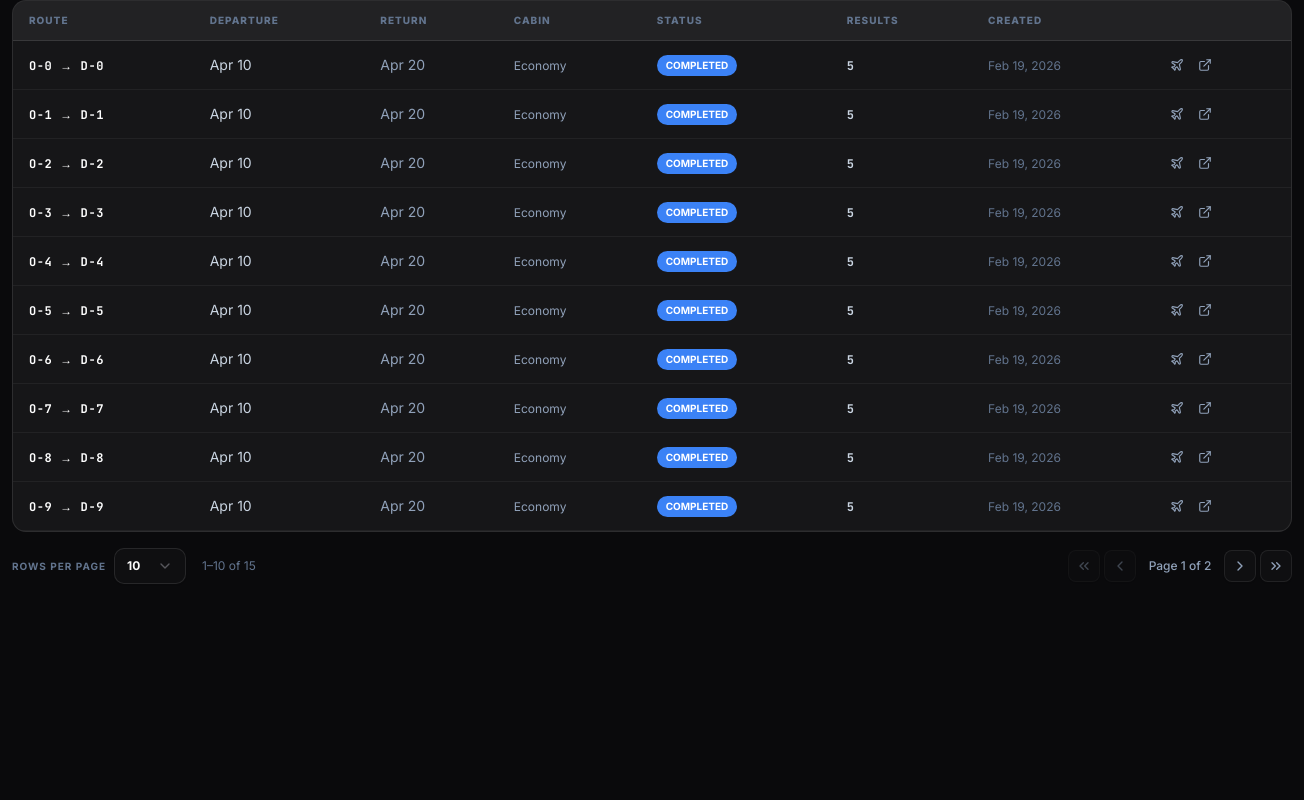
Test: ExecutionsTable › navigates pages when clicking pagination buttons
Expected: the text "Page 1 of 2" is shown, top-left (1149, 558), bottom-right (1211, 573)
Expected: the 1st button is disabled, top-left (1068, 550), bottom-right (1100, 582)
Click next → page 2
Step 1. Click the 3rd button → (1240, 566), box top-left (1224, 550), bottom-right (1256, 582)
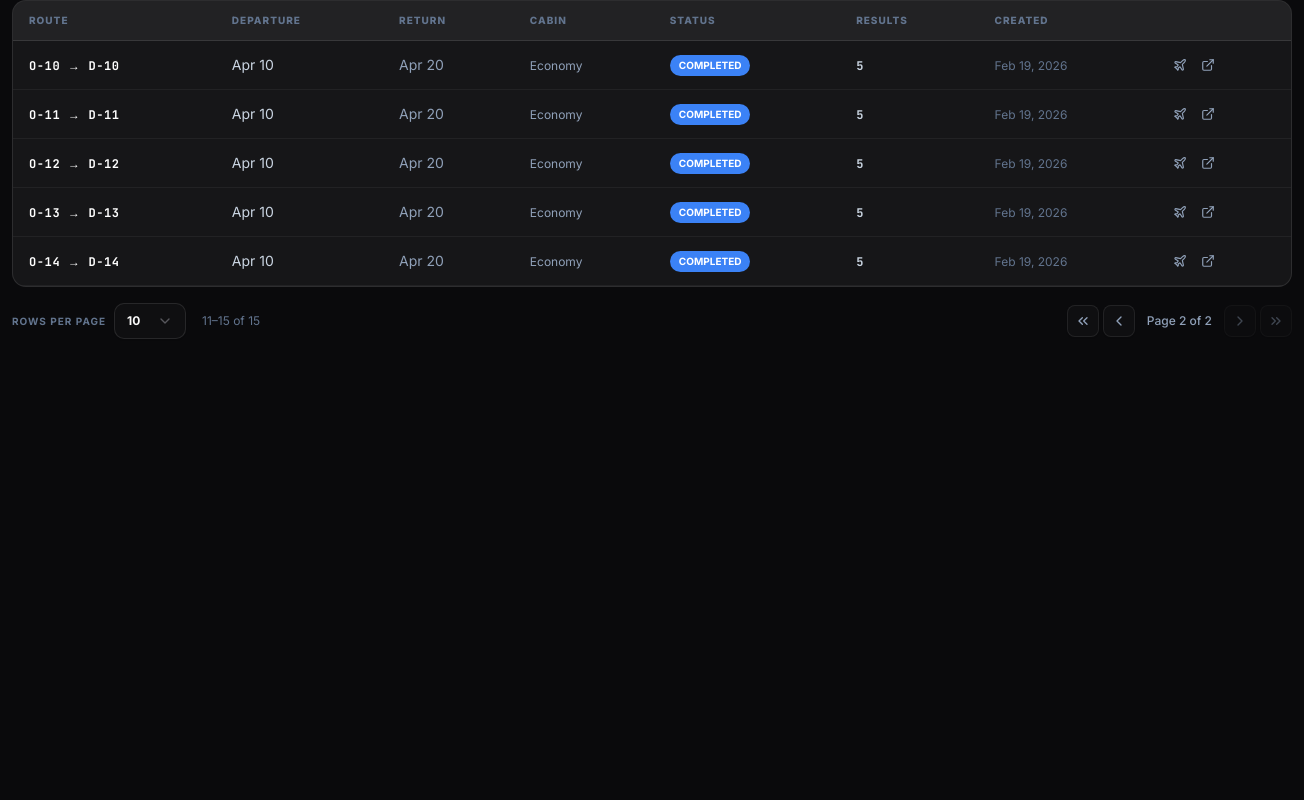
Expected: the 2nd button is enabled, top-left (1103, 305), bottom-right (1135, 337)
Now the text "Page 2 of 2" is shown, box top-left (1147, 313), bottom-right (1212, 328)
Now the 1st button is enabled
Click first → page 1
Step 2. Click the 1st button → (1083, 321), box top-left (1067, 305), bottom-right (1099, 337)
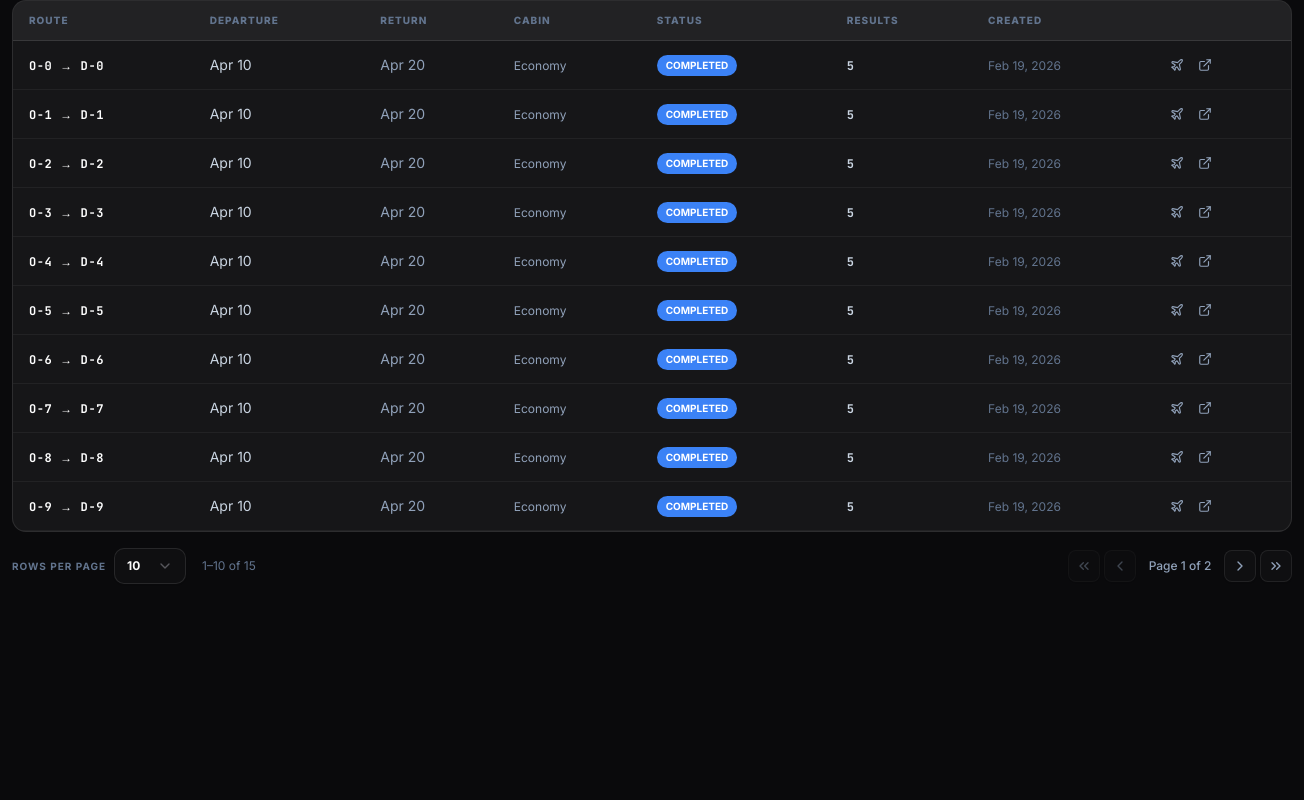
Now the text "Page 1 of 2" is shown, box top-left (1149, 558), bottom-right (1211, 573)
Click last → page 2
Step 3. Click the 4th button → (1276, 566), box top-left (1260, 550), bottom-right (1292, 582)
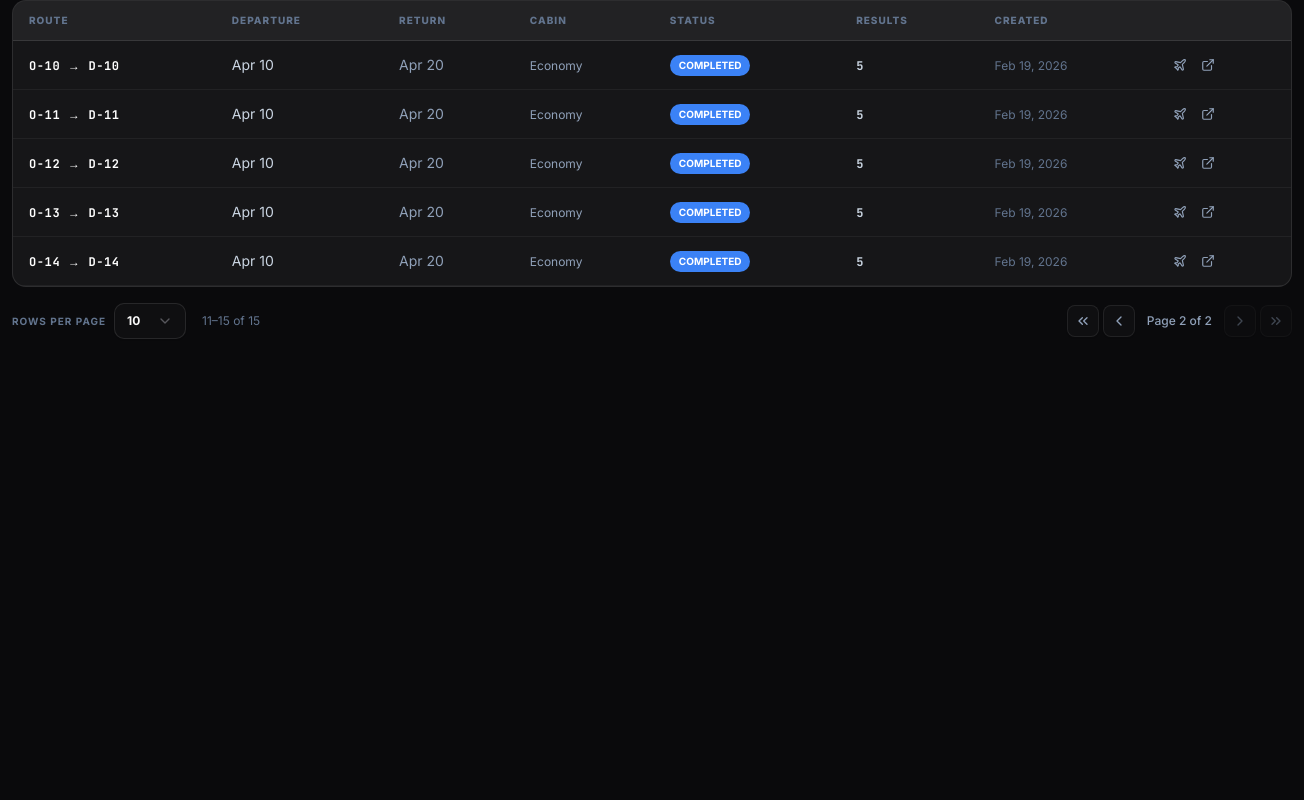
Now the text "Page 2 of 2" is shown, box top-left (1147, 313), bottom-right (1212, 328)
Click previous → page 1
Step 4. Click the 2nd button → (1119, 321), box top-left (1103, 305), bottom-right (1135, 337)
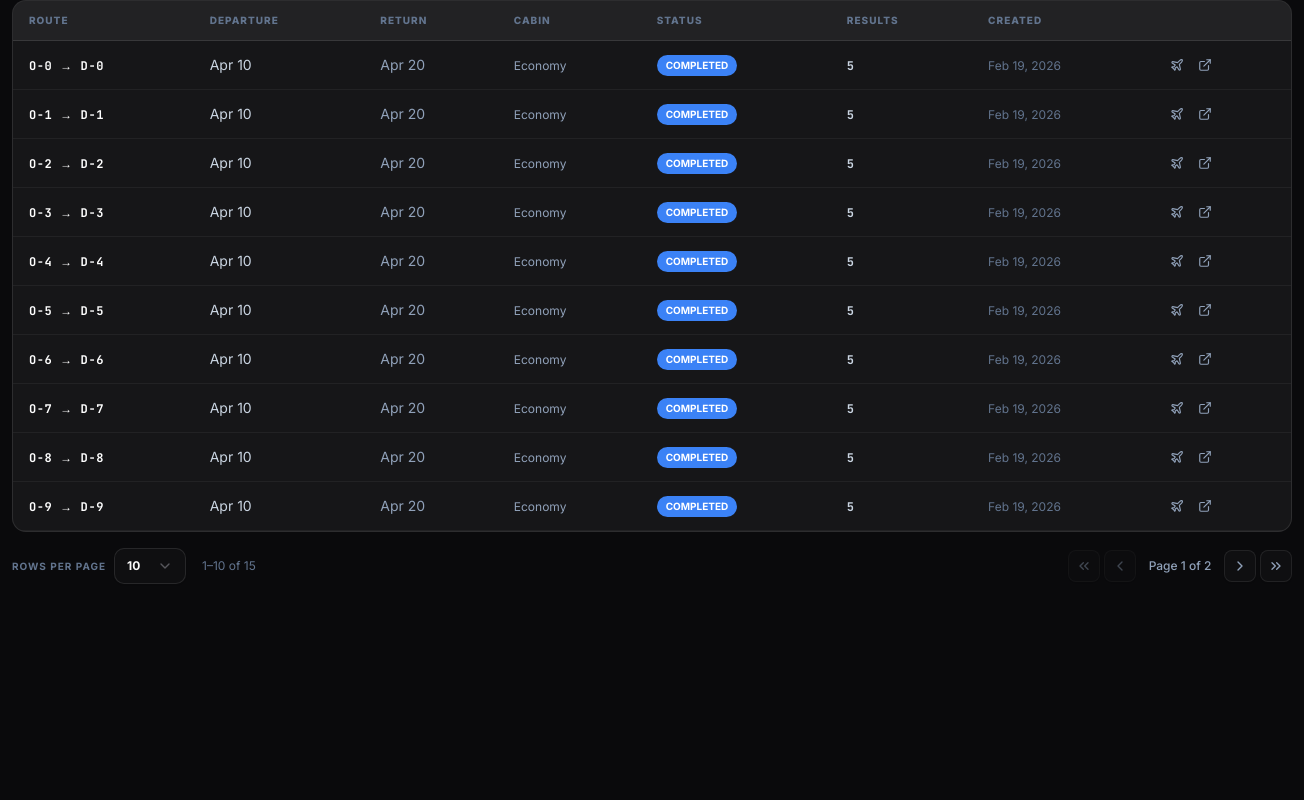
Now the text "Page 1 of 2" is shown, box top-left (1149, 558), bottom-right (1211, 573)
